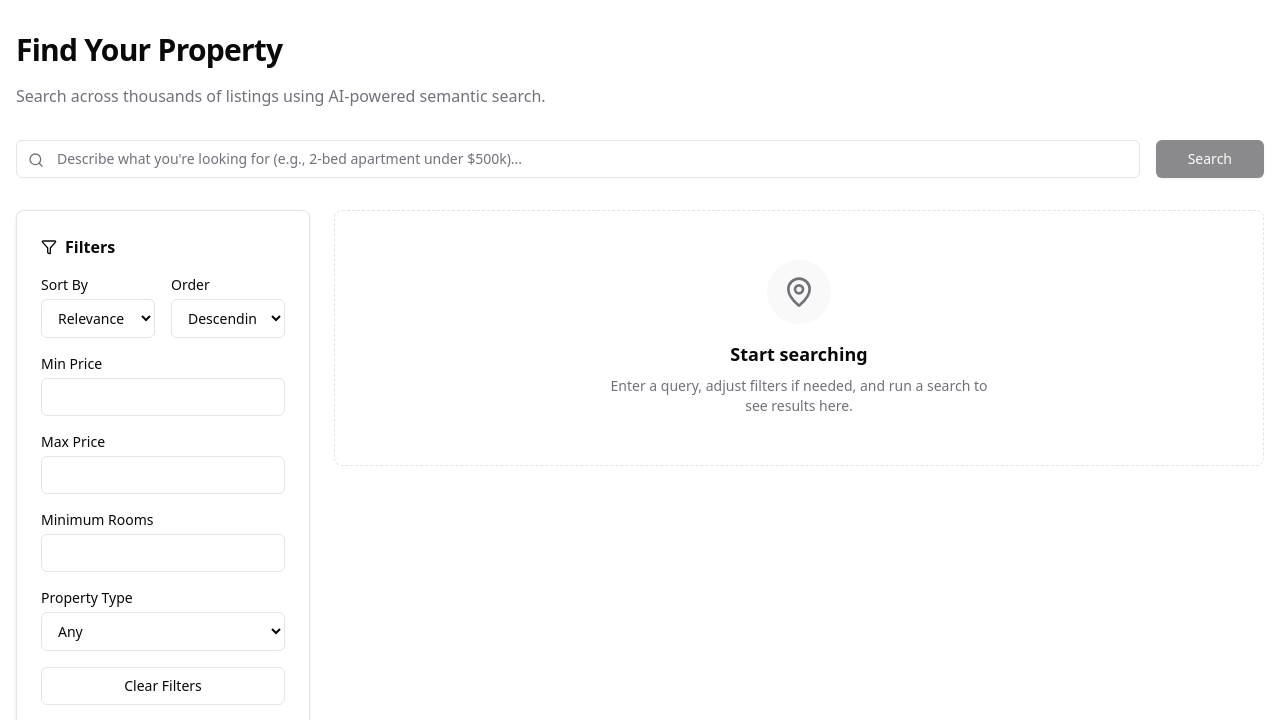
Test: SearchPage › displays error message on failure
Replace the text in the field named "Search query" with "Error" at (578, 159), box [16,140,1140,178]
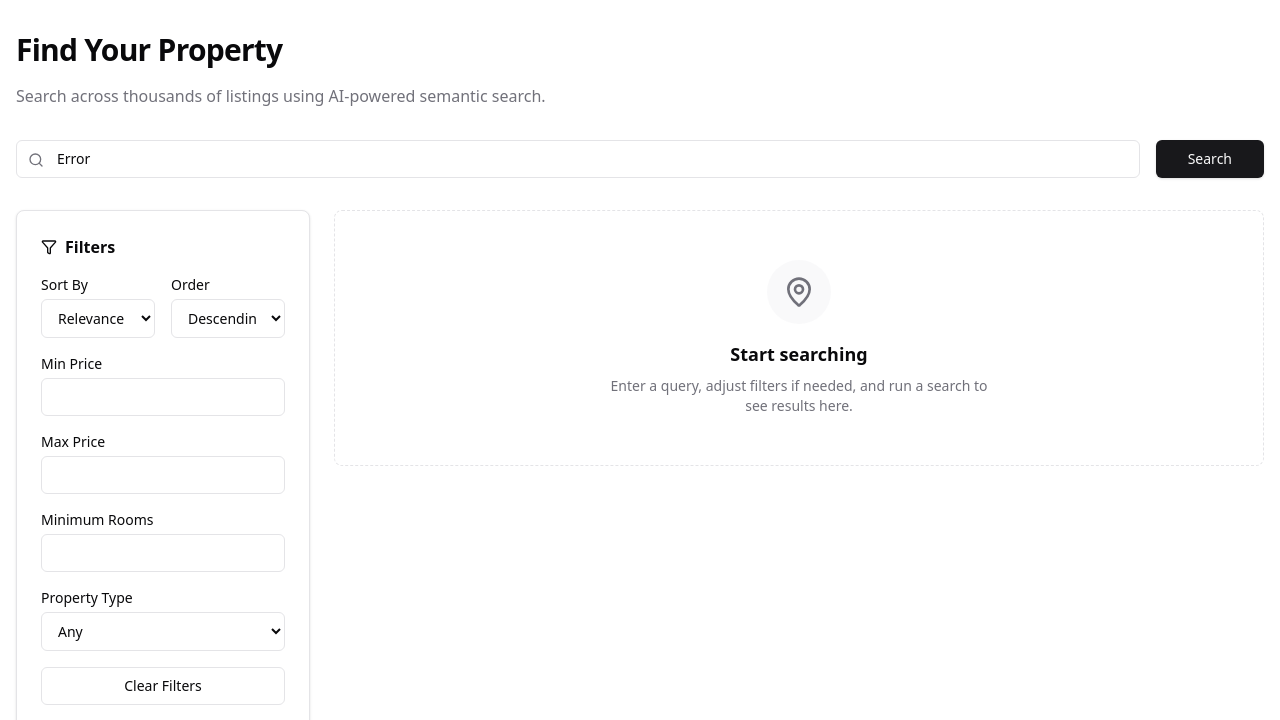
Click the button "Search" at (1210, 159), box [1156,140,1264,178]
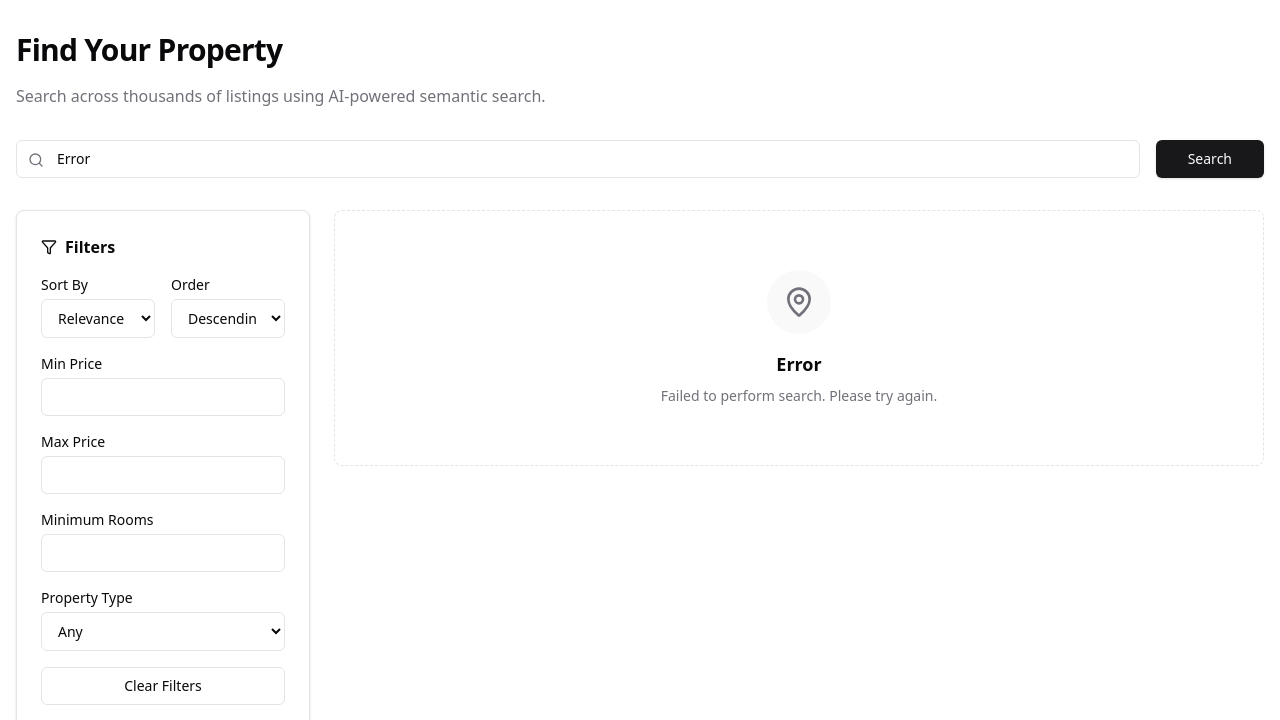
Expected: the heading "Error" is shown, [776,350,822,378]
Expected: the text "Failed to perform search. Please try again." is shown, [661,386,937,406]
